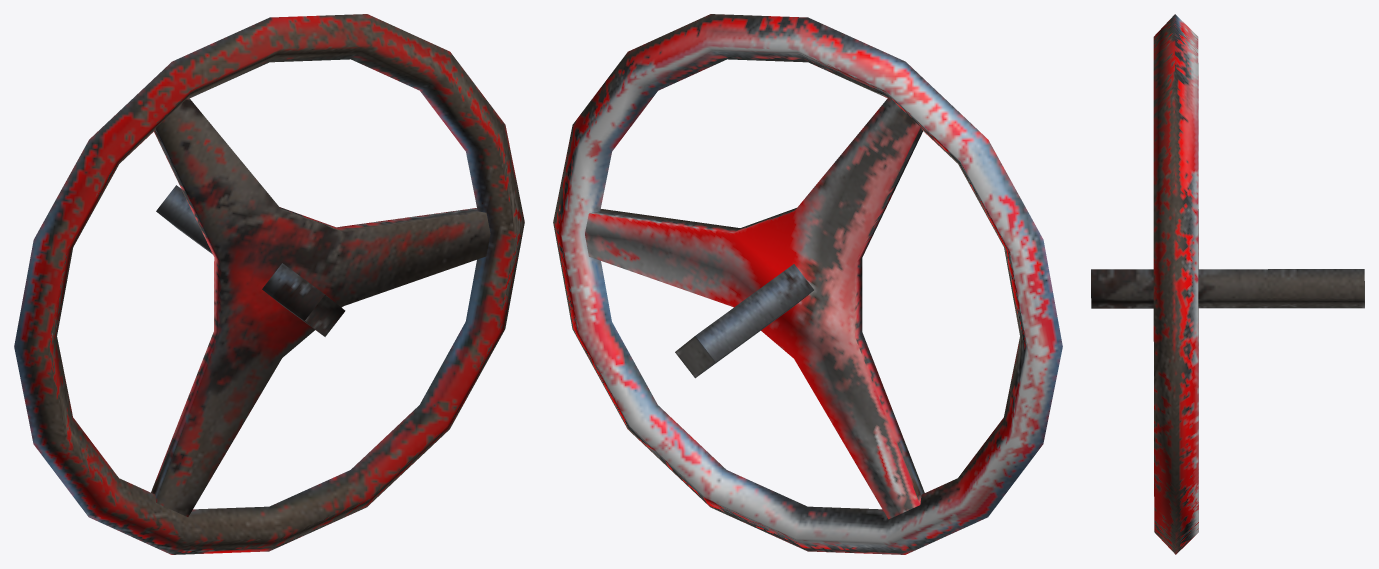
Rendered from Valve.fbx.
3 renders of one model, left to right at view 1: azimuth 30°, elevation 25°; view 2: azimuth 150°, elevation 25°; view 3: azimuth 270°, elevation 25°, orthographic. The views are drawn at different scales.
Parts seen in each view (by area): view 1: Valve; view 2: Valve; view 3: Valve.
Boxes of the visible parts, left/top/right/bottom form: Valve: left=14, top=14, right=524, bottom=554; Valve: left=553, top=14, right=1062, bottom=554; Valve: left=1091, top=14, right=1364, bottom=554.
Size of the model in its own units: 16.79 by 16.79 by 8.49.
